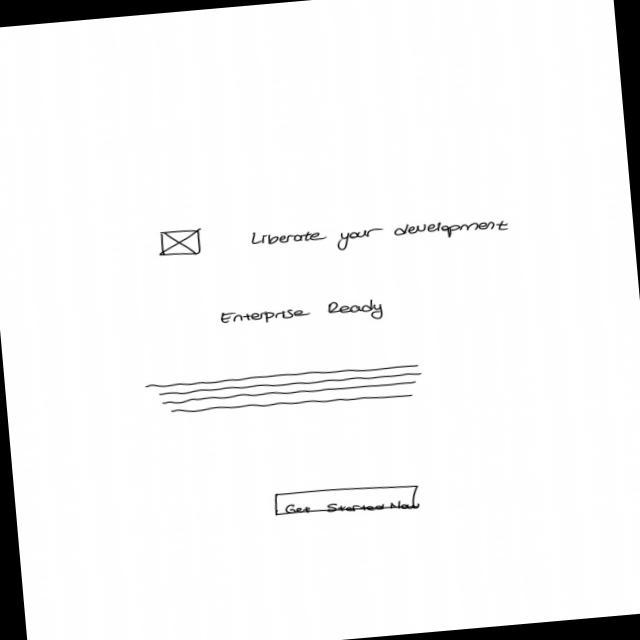button: (272, 481, 423, 524)
image: (156, 227, 204, 260)
label: (249, 210, 514, 262), (219, 296, 387, 335)
textbox: (144, 360, 427, 423)
